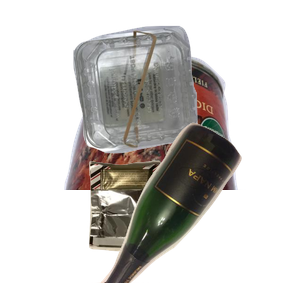glass: (87, 120, 300, 300)
metal: (62, 47, 300, 227)
plastic: (71, 23, 300, 169)
trash: (86, 158, 242, 300)
